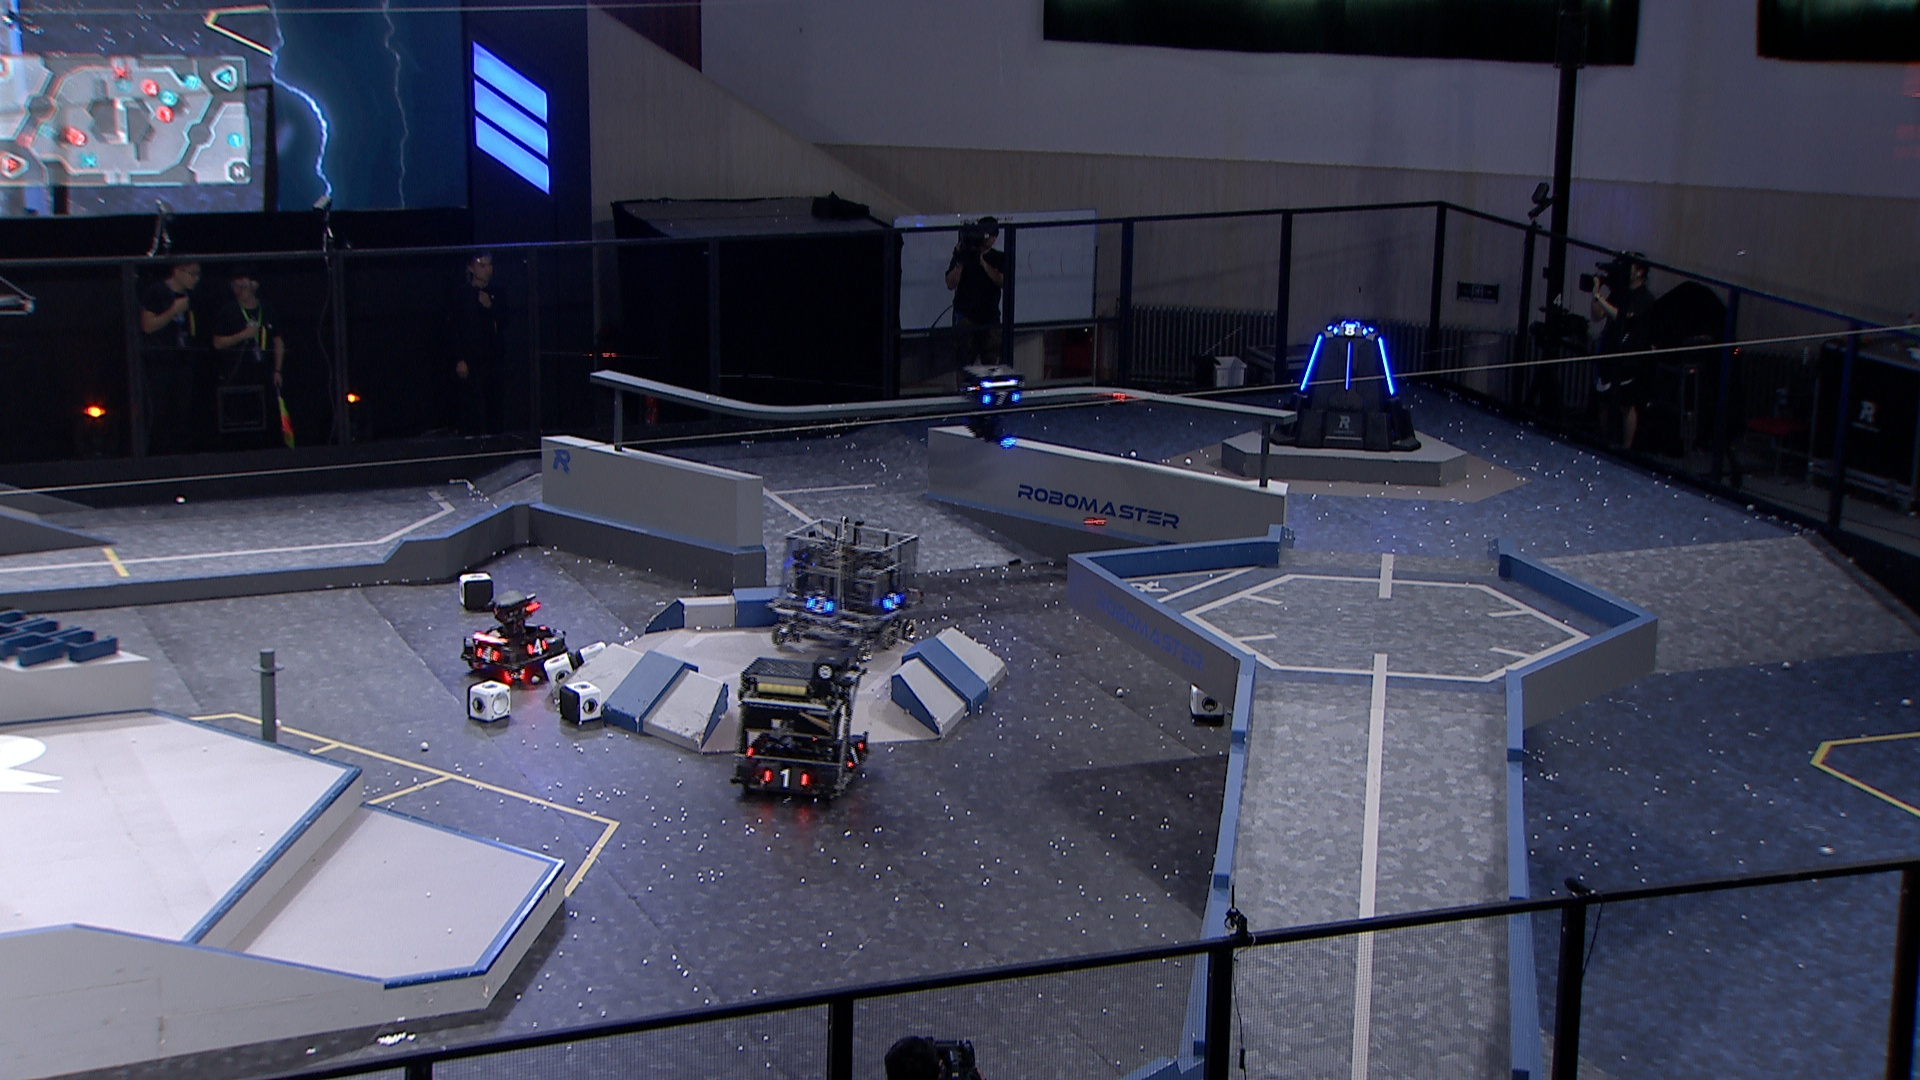armor: (1299, 334, 1324, 394), (1377, 334, 1396, 398), (761, 766, 808, 789), (978, 389, 1025, 409), (804, 593, 835, 616), (844, 742, 865, 771), (472, 644, 500, 665), (1332, 323, 1371, 338), (1342, 342, 1353, 396), (882, 593, 903, 616), (527, 636, 549, 657)
base: (1269, 319, 1424, 455)
car: (764, 520, 918, 662), (732, 657, 873, 807), (460, 589, 568, 680)
watcher: (955, 363, 1031, 451)
